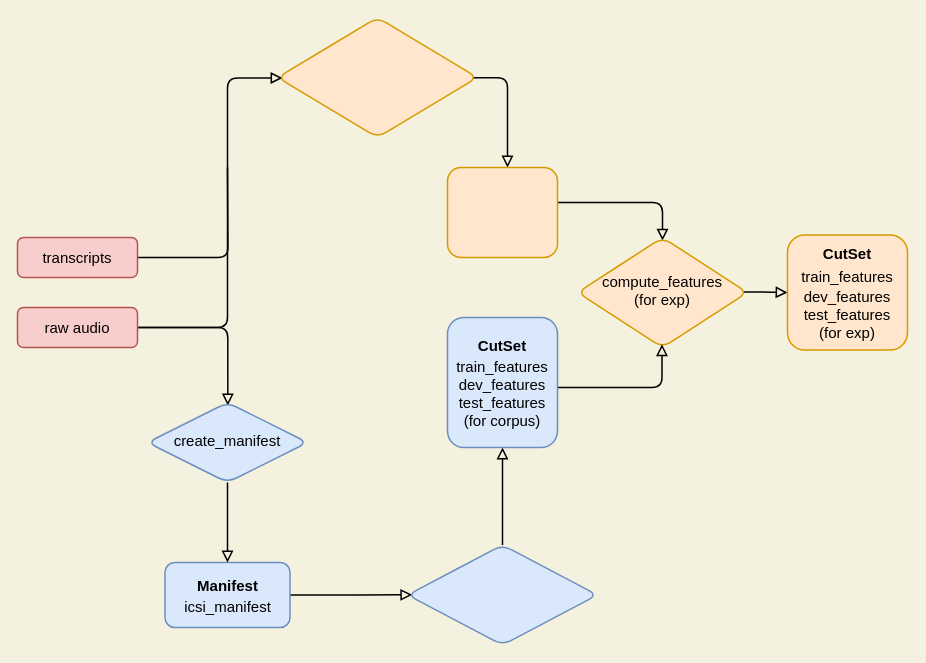
This 926x663 diagram has some shape labels left out. The shapes that lost their labels are listed below. From the top down, each one's centre as x and y in pixels, then its label:
(377,77): create_data_df
(502,212): DataFrame train_df dev_df test_df
(502,594): compute_features (for corpus)
